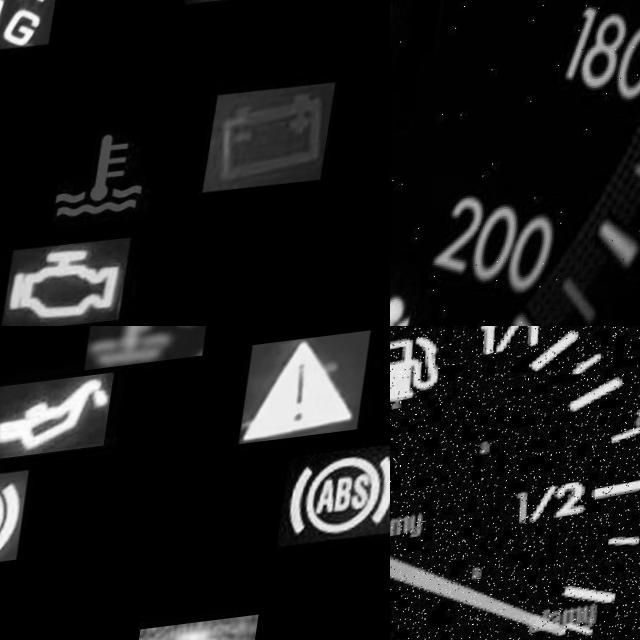Central Warning lamp: (248, 346, 377, 456)
Engine cooling system: (49, 118, 182, 250), (90, 326, 216, 378)
